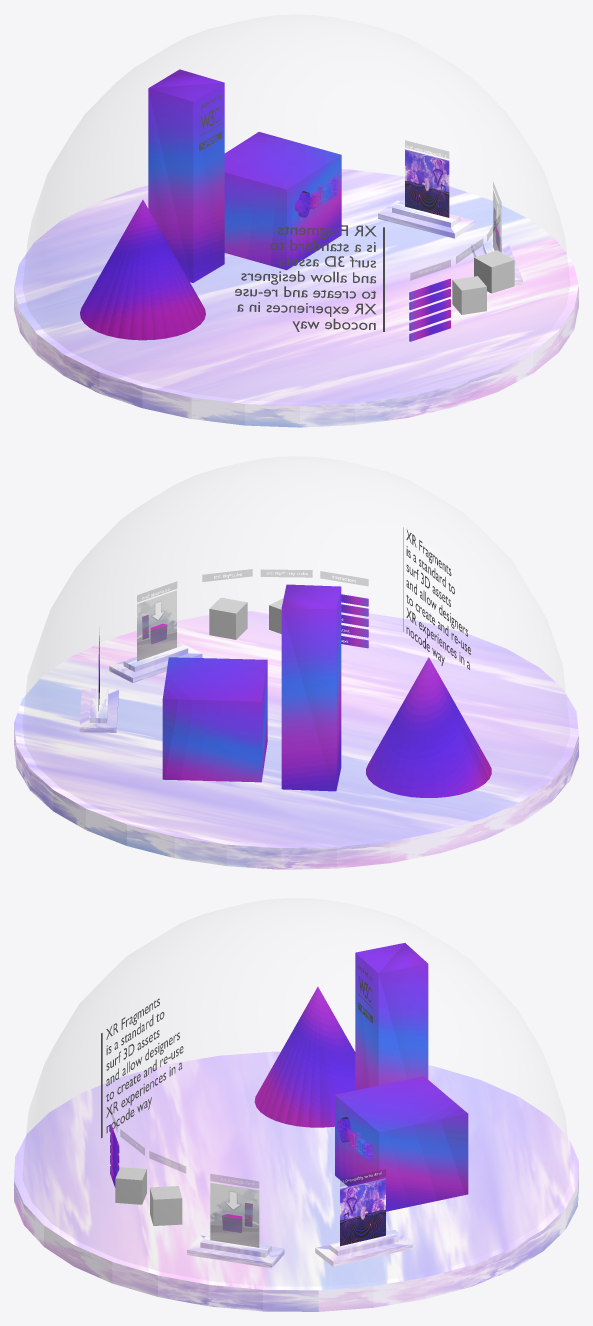
File: query.gltf
3 renders of one model, top to bottom at view 1: azimuth 30°, elevation 25°; view 2: azimuth 150°, elevation 25°; view 3: azimuth 270°, elevation 25°, orthographic.
Parts seen in each view (by area): view 1: floorstone, primitives, cube, Text.001, door, step, cube.001, cube.002, logo_nlnet, step.001; view 2: floorstone, primitives, cube, door.001, Text.001, step, step.001, cube.001; view 3: floorstone, primitives, cube, door.001, door, Text.001, step.001, step, cube.001, cube.002, logo_nlnet.
Boxes of the visible parts, x1=… form: floorstone: x1=14, y1=169, x2=578, y2=427; primitives: x1=80, y1=69, x2=224, y2=340; cube: x1=224, y1=132, x2=341, y2=270; Text.001: x1=235, y1=225, x2=376, y2=331; door: x1=405, y1=149, x2=449, y2=217; step: x1=378, y1=200, x2=474, y2=238; cube.001: x1=474, y1=250, x2=514, y2=293; cube.002: x1=452, y1=276, x2=486, y2=314; logo_nlnet: x1=294, y1=177, x2=338, y2=217; step.001: x1=471, y1=242, x2=522, y2=285; floorstone: x1=14, y1=610, x2=578, y2=869; primitives: x1=281, y1=584, x2=491, y2=797; cube: x1=162, y1=657, x2=267, y2=782; door.001: x1=137, y1=590, x2=176, y2=661; Text.001: x1=406, y1=529, x2=470, y2=669; step: x1=79, y1=688, x2=118, y2=732; step.001: x1=109, y1=642, x2=202, y2=682; cube.001: x1=209, y1=597, x2=247, y2=639; floorstone: x1=14, y1=1051, x2=578, y2=1311; primitives: x1=254, y1=943, x2=428, y2=1127; cube: x1=335, y1=1076, x2=468, y2=1211; door.001: x1=210, y1=1183, x2=259, y2=1247; door: x1=340, y1=1178, x2=385, y2=1246; Text.001: x1=106, y1=998, x2=183, y2=1133; step.001: x1=187, y1=1235, x2=284, y2=1268; step: x1=315, y1=1230, x2=412, y2=1266; cube.001: x1=150, y1=1186, x2=182, y2=1225; cube.002: x1=115, y1=1167, x2=146, y2=1204; logo_nlnet: x1=337, y1=1117, x2=373, y2=1160.
Size of what is drawn, in the model's own units: 20.66 by 10.86 by 20.66.
9 materials, 3 textured.
